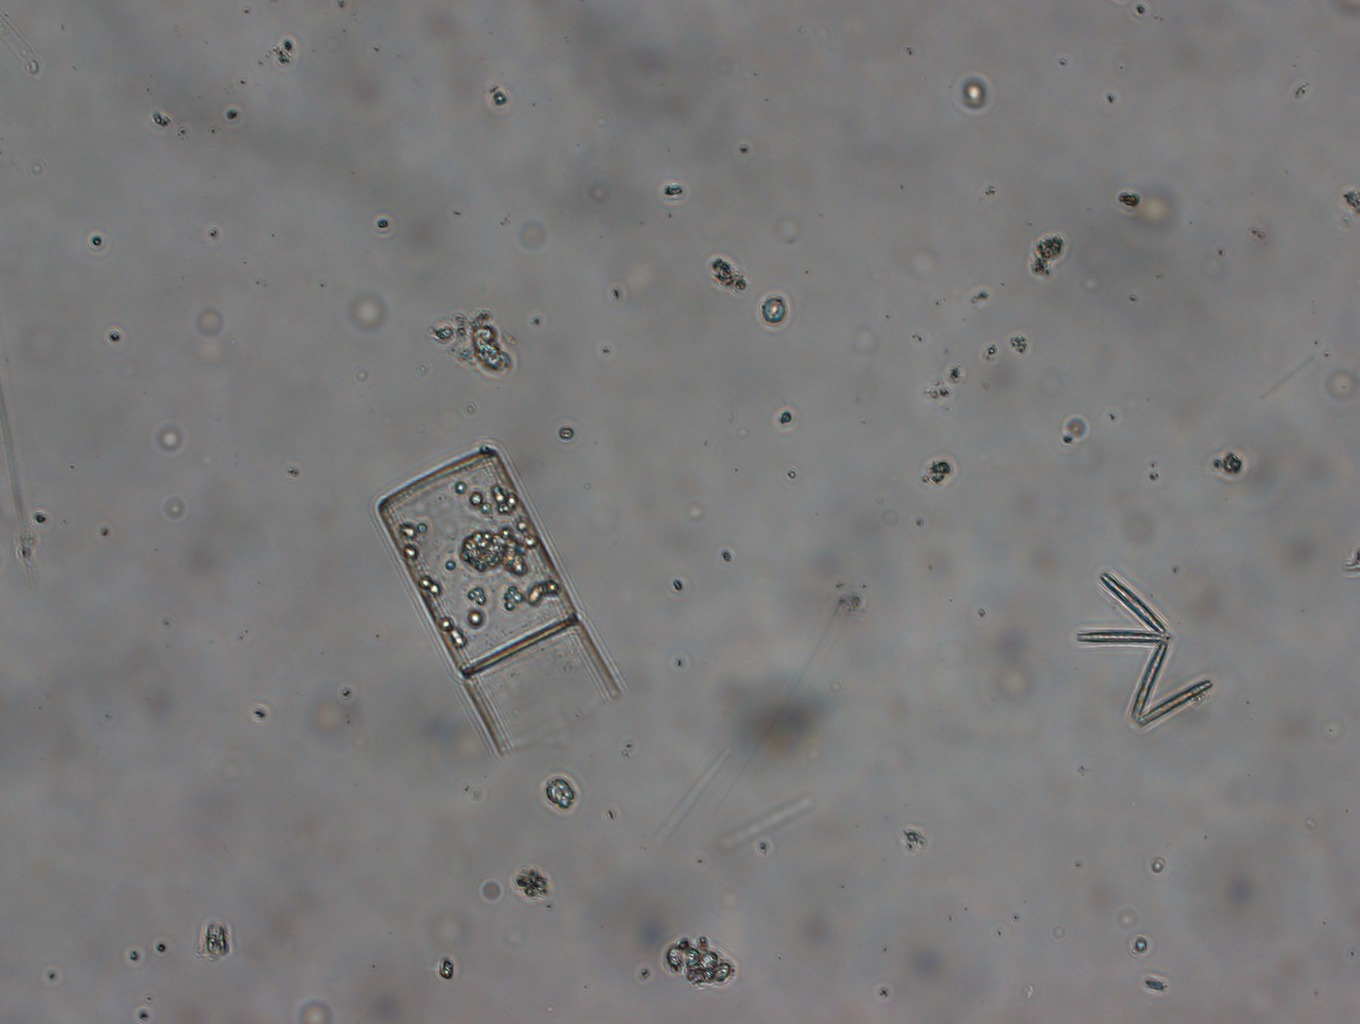guinardia flaccida: (376, 449, 622, 760)
thalassionema nitzschioides: (1075, 570, 1212, 729)
